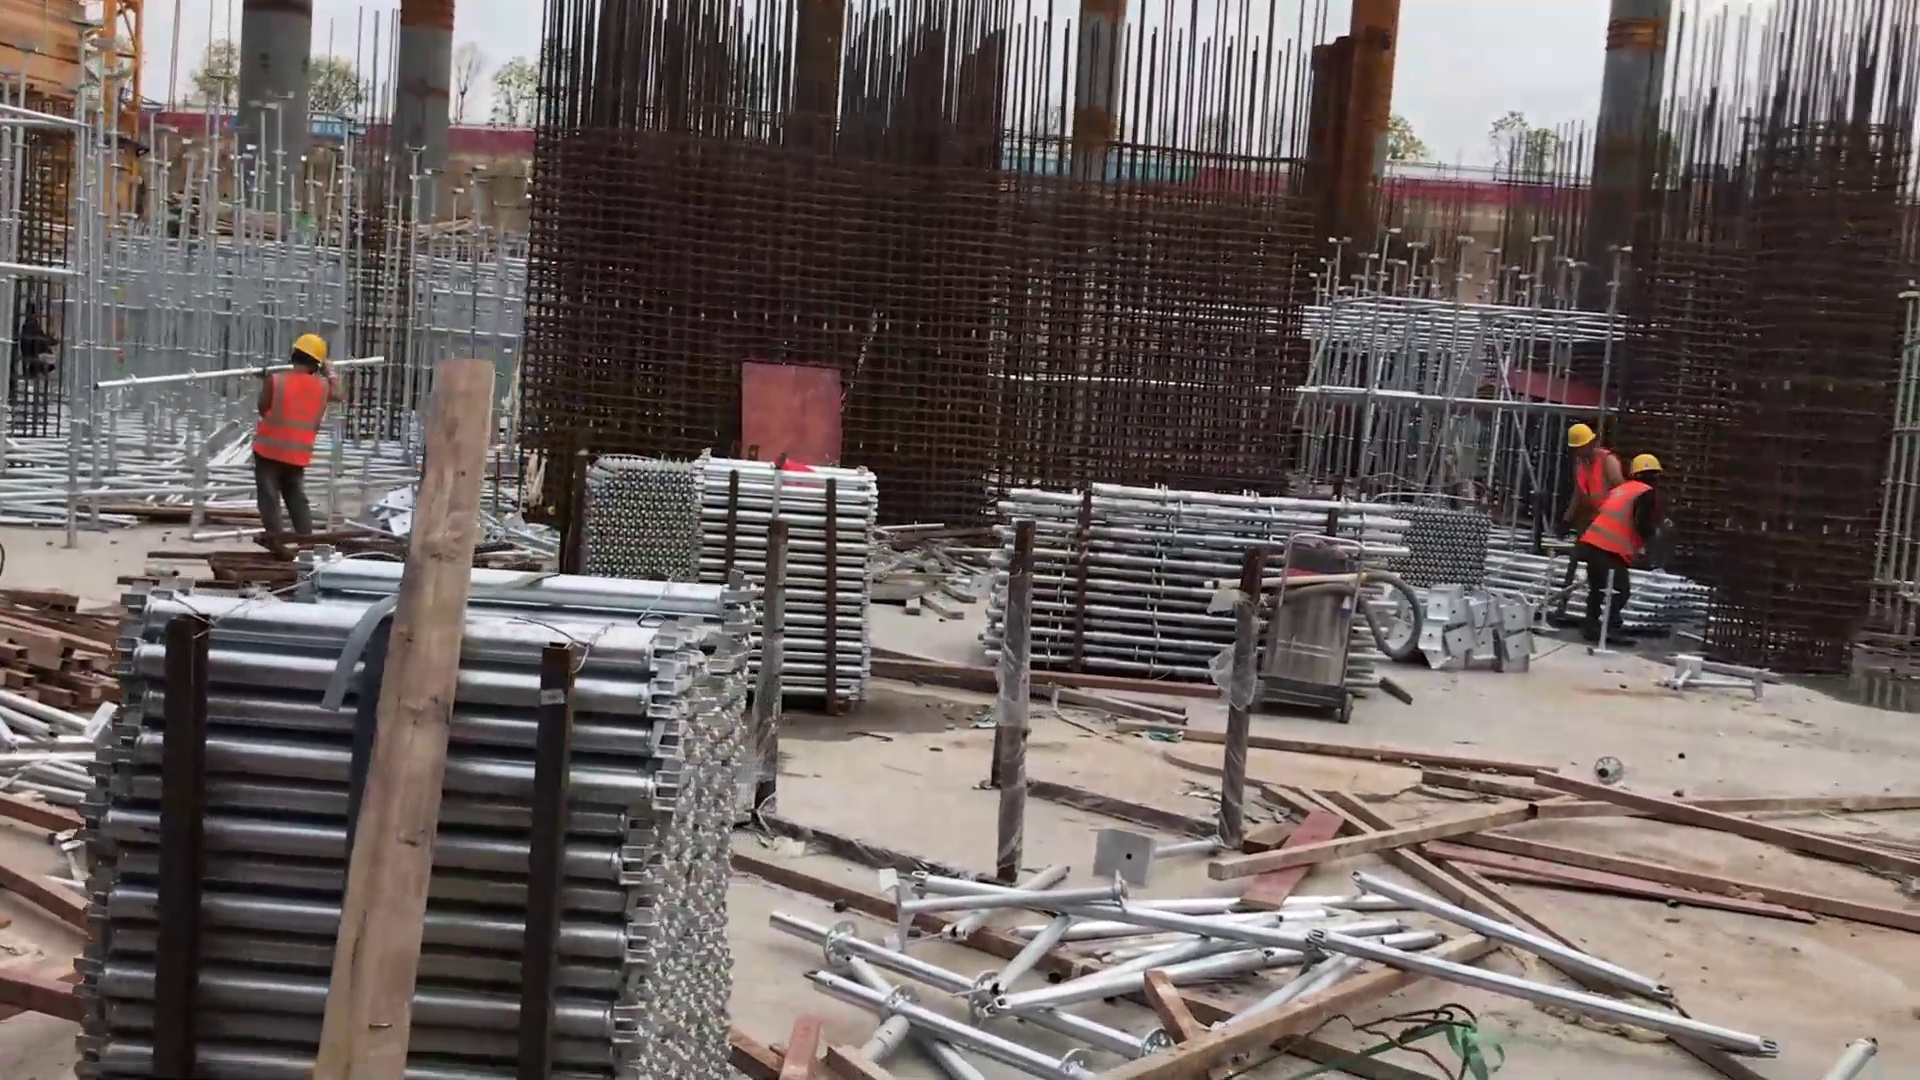board: (731, 351, 849, 477)
helmet: (287, 334, 334, 368), (1561, 413, 1602, 449), (1626, 448, 1666, 480)
person: (255, 330, 346, 569), (1577, 449, 1663, 652), (1561, 420, 1623, 520)
scaffold: (69, 550, 748, 1080), (997, 471, 1405, 707), (589, 446, 879, 716), (1485, 543, 1708, 639), (1389, 502, 1494, 597)
vest: (257, 363, 332, 484), (1589, 486, 1645, 563), (1578, 458, 1617, 506)
wood: (1238, 738, 1876, 933), (12, 577, 113, 705)
